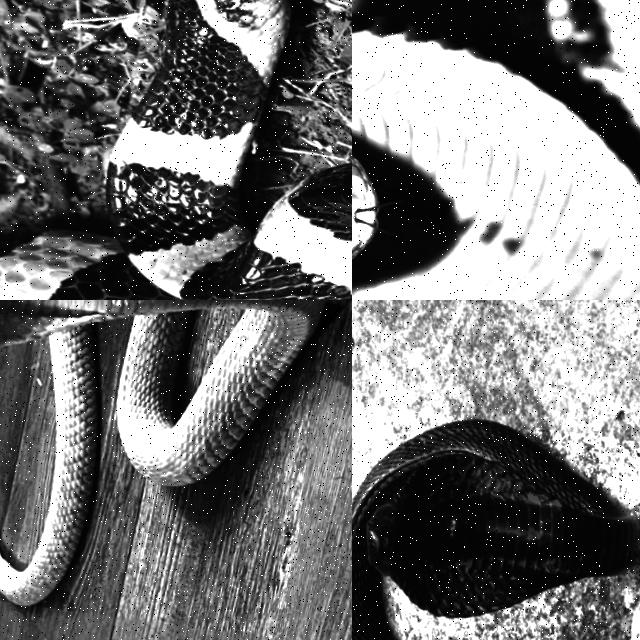Bungarus fasciatus: (0, 0, 351, 299)
Naja kaouthia: (0, 300, 323, 605), (352, 421, 635, 639)
Naja siamensis: (352, 0, 639, 299)
snake: (0, 0, 351, 299), (0, 300, 323, 605), (352, 0, 639, 299), (352, 421, 635, 639)
